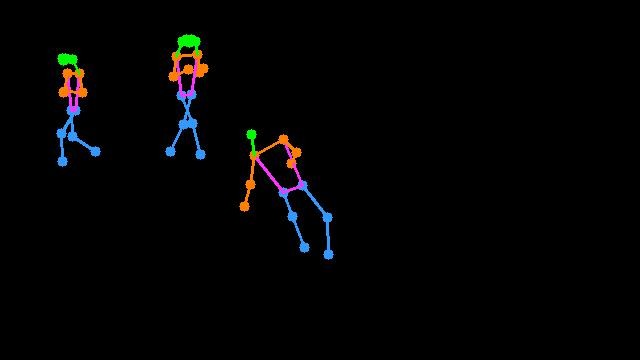normal: (42, 31, 109, 170), (154, 26, 217, 167)
